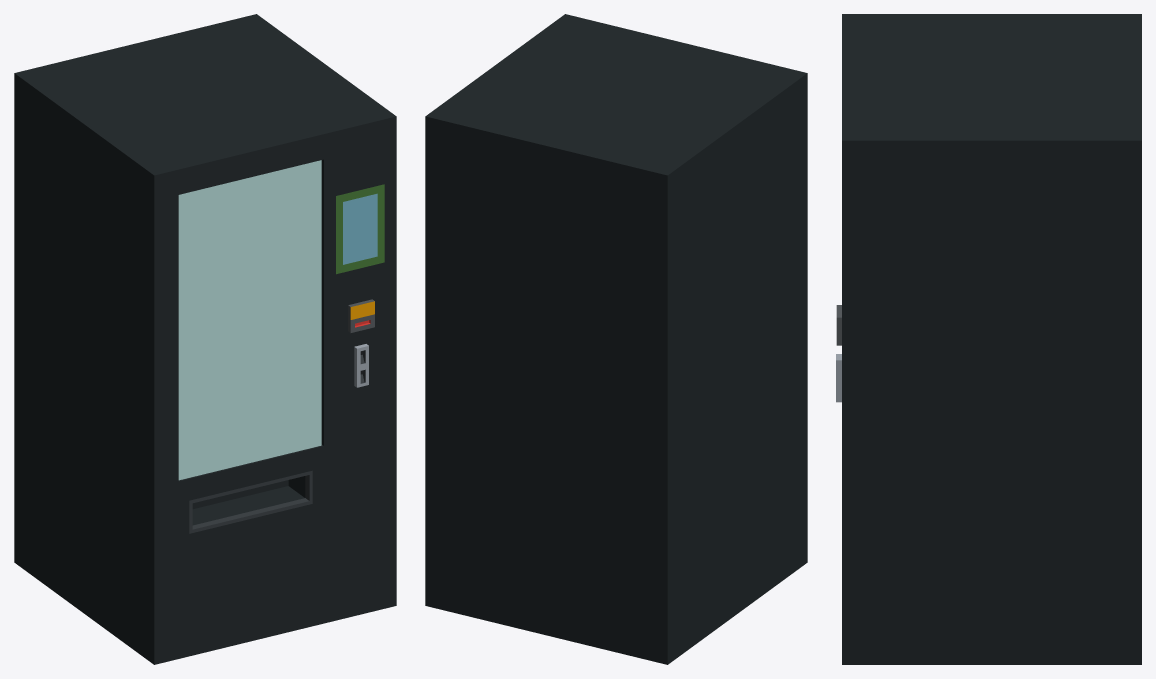
The model's file is SM_Props_VendingMachine_01.fbx.
3 renders of one model, left to right at view 1: azimuth 30°, elevation 25°; view 2: azimuth 150°, elevation 25°; view 3: azimuth 270°, elevation 25°, orthographic. The views are drawn at different scales.
Parts seen in each view (by area): view 1: SM_Props_VendingMachine_01; view 2: SM_Props_VendingMachine_01; view 3: SM_Props_VendingMachine_01.
Part boxes in pixels (left/top/right/bottom): SM_Props_VendingMachine_01: left=14, top=14, right=396, bottom=664; SM_Props_VendingMachine_01: left=425, top=14, right=807, bottom=664; SM_Props_VendingMachine_01: left=836, top=14, right=1141, bottom=664.
Bounding box in the file's own units: 1 × 1.93 × 1.02.
